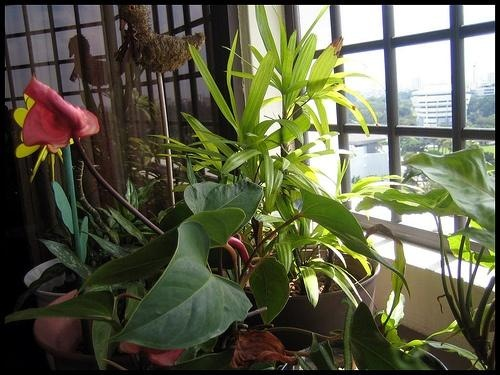pottedplant: (191, 46, 365, 333), (281, 149, 496, 371), (36, 180, 246, 370), (19, 75, 102, 372)
